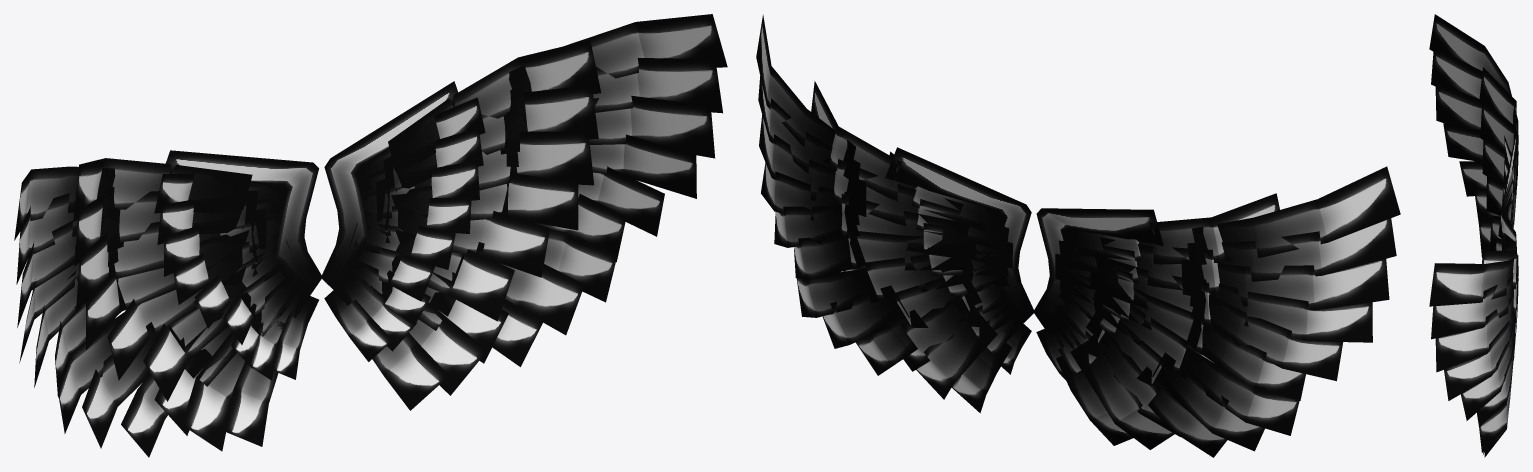
The model's file is FX_AngelWings.fbx.
3 renders of one model, left to right at view 1: azimuth 30°, elevation 25°; view 2: azimuth 150°, elevation 25°; view 3: azimuth 270°, elevation 25°, orthographic. The views are drawn at different scales.
Visible parts, largest first — view 1: FX_AngelWings; view 2: FX_AngelWings; view 3: FX_AngelWings.
Boxes of the visible parts, box(x1,y1,x2,y2) form: FX_AngelWings: box(14, 14, 727, 457); FX_AngelWings: box(756, 14, 1400, 457); FX_AngelWings: box(1429, 14, 1518, 457).
Size of the model in its own units: 3.73 by 1.76 by 0.5466.
